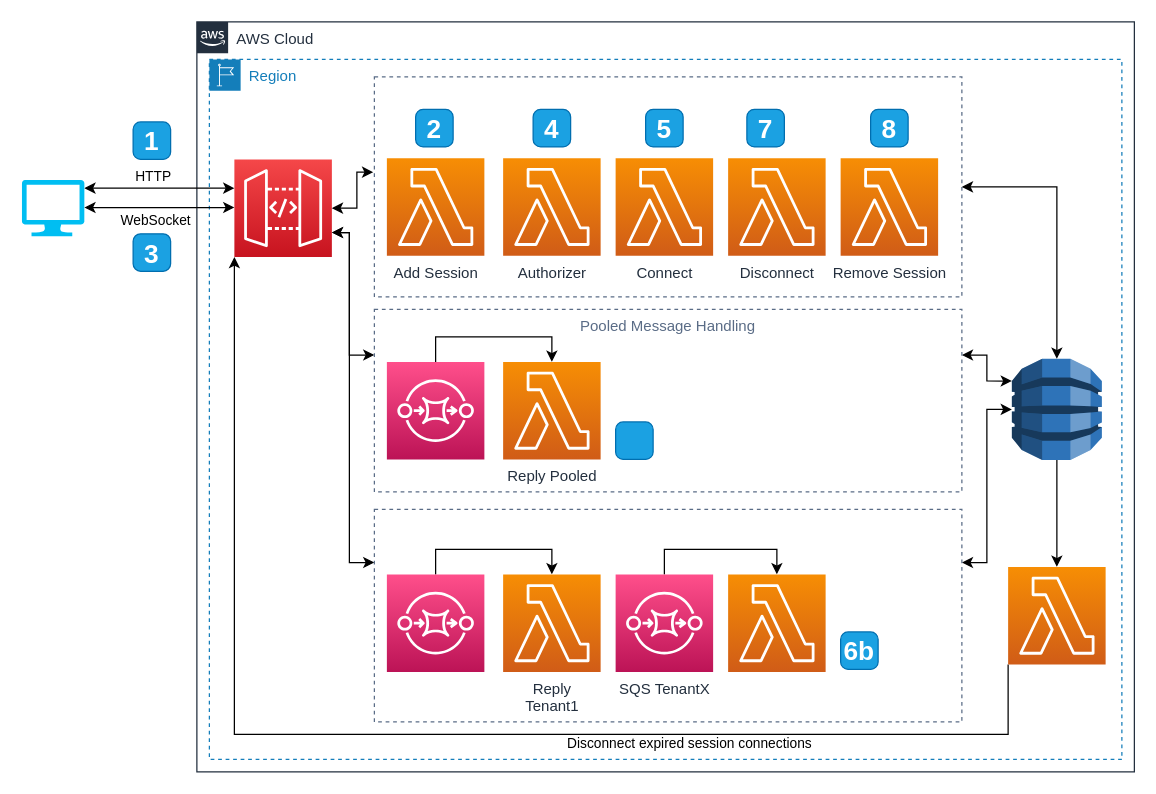
The diagram is 1156 pixels wide and 794 high, and some of its shapes have lost their labels. Each missing label, with the box of its shape:
6a: (614, 421, 653, 459)
API Gateway: (233, 158, 332, 257)
DynamoDB: (1011, 358, 1102, 460)
Handle websocket and http communications: (373, 76, 962, 297)
Reply TenantX: (727, 573, 826, 672)
SessionTTL: (1007, 566, 1106, 664)
Siloed Message Handling: (373, 508, 962, 722)
SQS Pooled: (386, 361, 484, 459)
SQS Tenant1: (386, 573, 484, 672)
